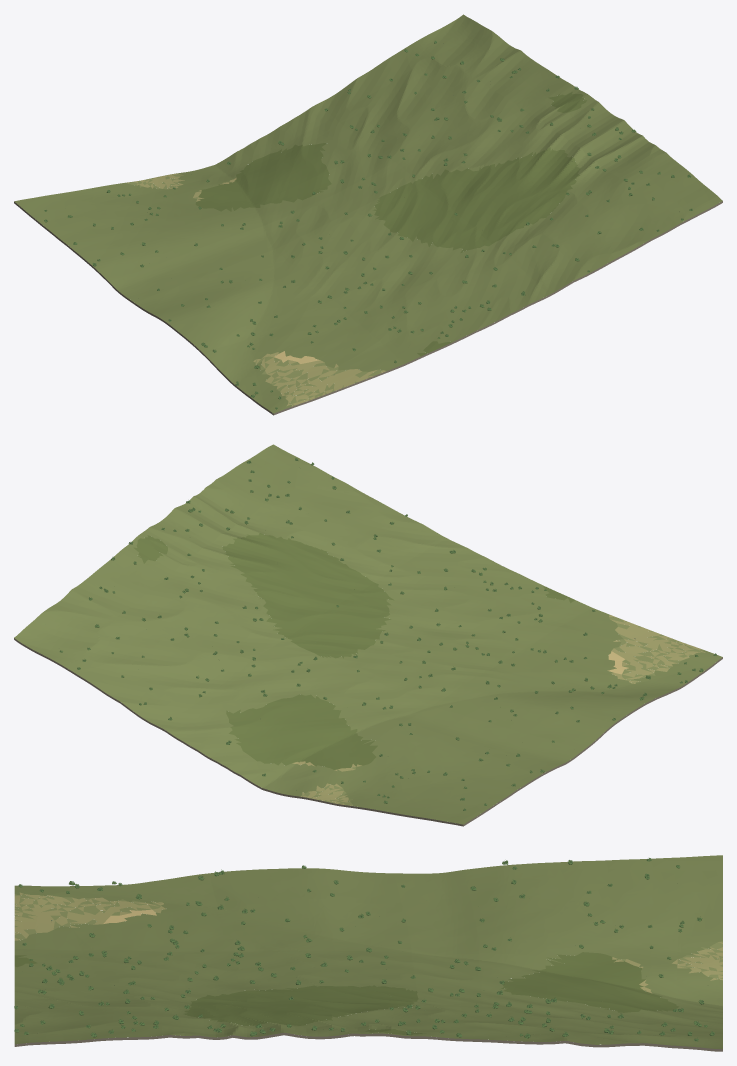
Rendered from parca_+2_-7-yakin.glb.
3 renders of one model, top to bottom at view 1: azimuth 30°, elevation 25°; view 2: azimuth 150°, elevation 25°; view 3: azimuth 270°, elevation 25°, orthographic. The views are drawn at different scales.
Visible parts, largest first — view 1: parca_+2_-7_arazi, parca_+2_-7_bitkiler; view 2: parca_+2_-7_arazi, parca_+2_-7_bitkiler; view 3: parca_+2_-7_arazi, parca_+2_-7_bitkiler.
Part boxes in pixels (x1,y1,x2,y2): parca_+2_-7_arazi: (14,14,722,415); parca_+2_-7_bitkiler: (44,40,692,409); parca_+2_-7_arazi: (14,444,722,826); parca_+2_-7_bitkiler: (59,458,716,810); parca_+2_-7_arazi: (14,855,722,1051); parca_+2_-7_bitkiler: (14,858,714,1043).
Size of the model in its own units: 1003 by 244 by 1001.
